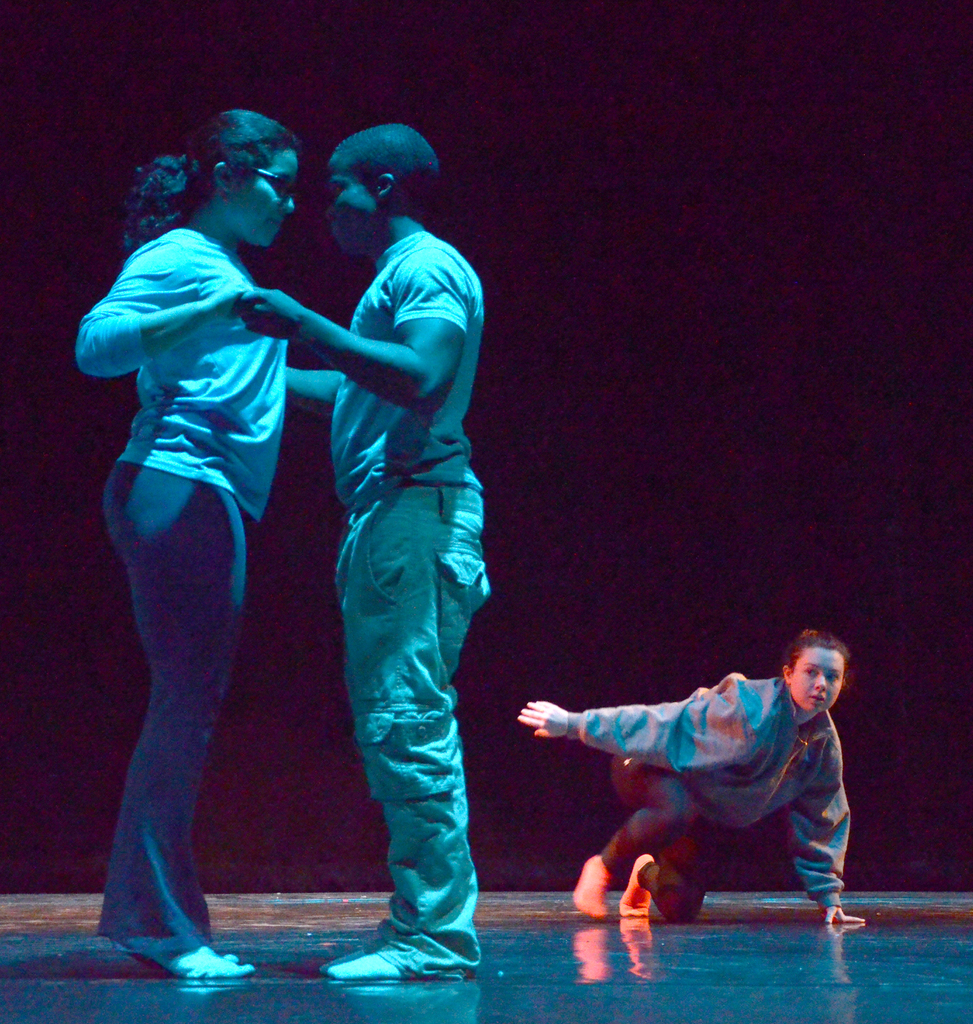Person: (234, 122, 493, 980), (74, 109, 302, 980), (516, 627, 866, 925)
